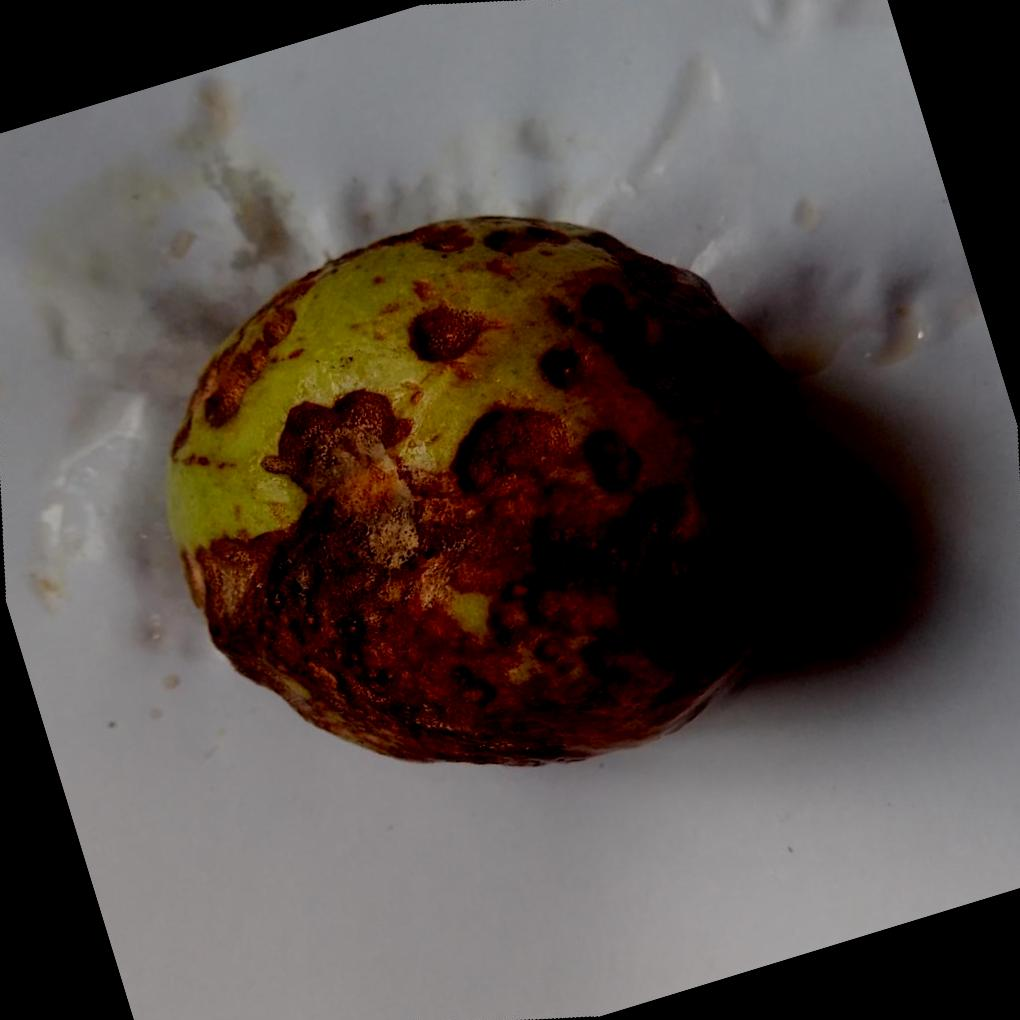FreshOrange: (160, 213, 831, 768)
